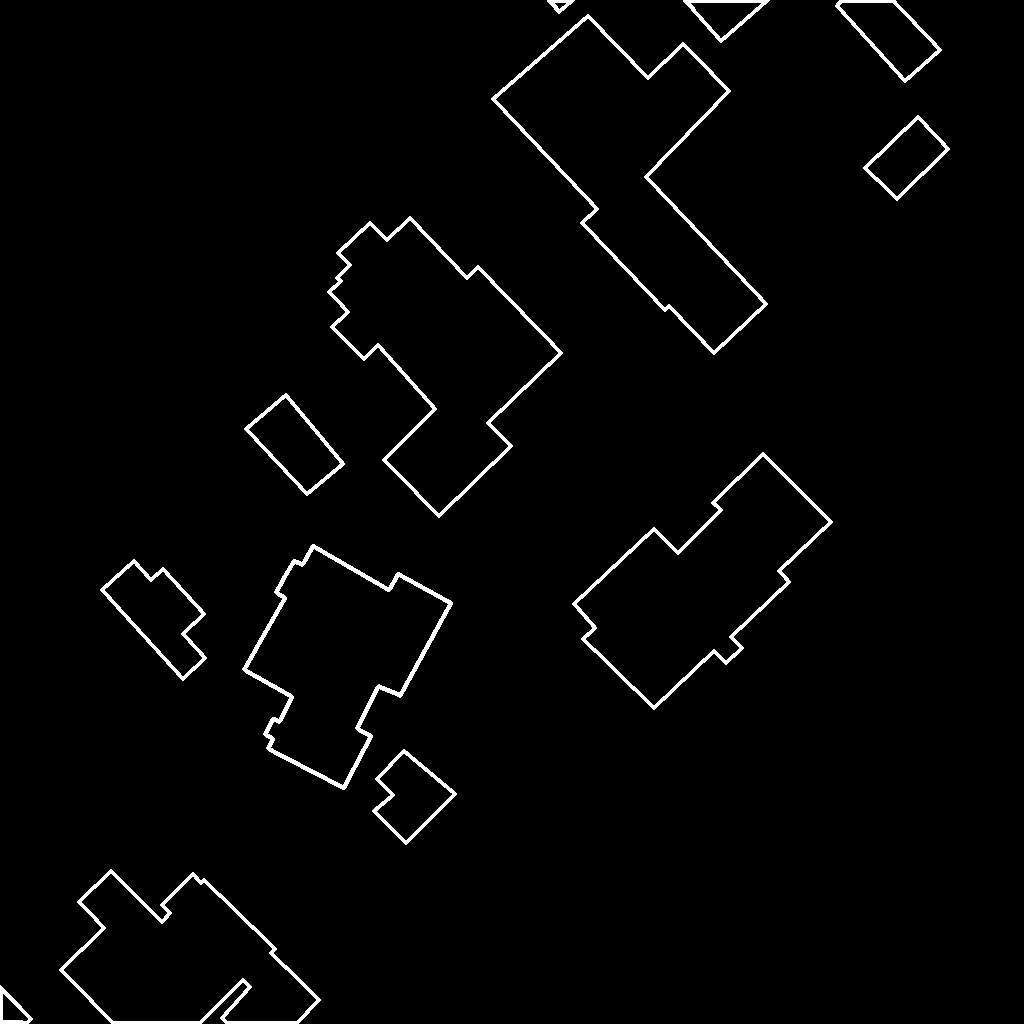building: (493, 16, 767, 354), (329, 218, 562, 517), (574, 454, 832, 709), (244, 546, 452, 789), (61, 871, 320, 1024), (102, 561, 206, 680), (246, 395, 344, 495), (837, 0, 941, 82), (374, 751, 456, 844), (865, 117, 949, 200), (684, 0, 769, 42), (0, 987, 32, 1024), (548, 0, 574, 13)
